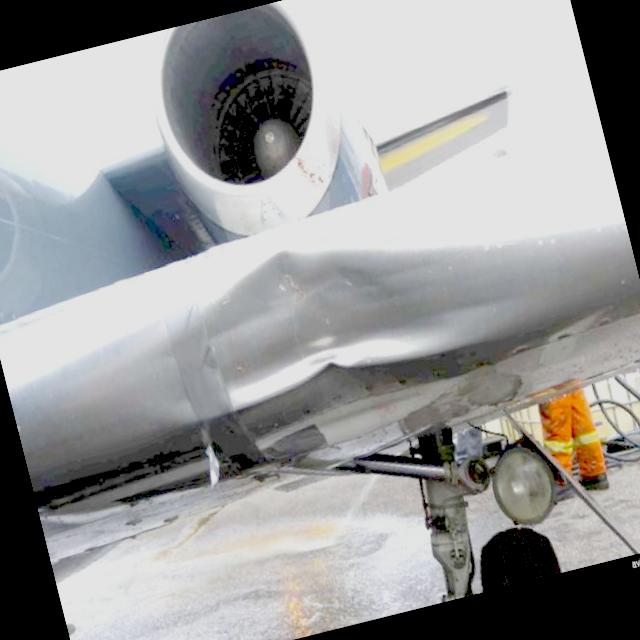dent: (136, 194, 539, 430)
